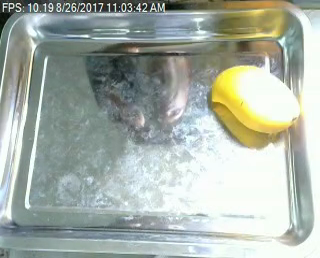Mango: (206, 67, 307, 140)
